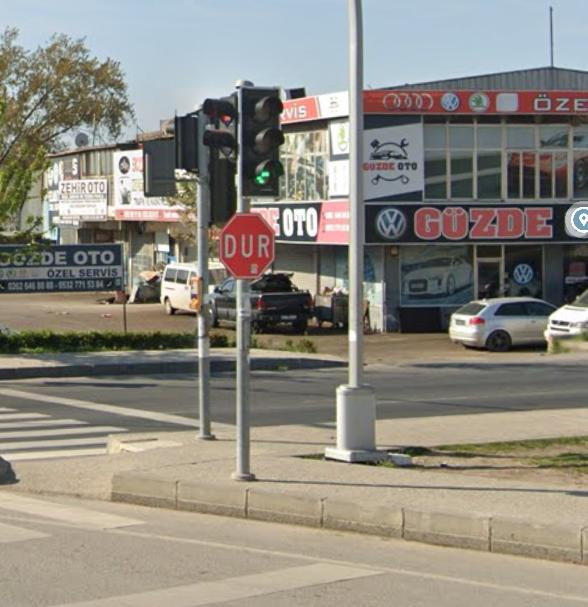greenlight: (240, 86, 283, 189)
stop: (222, 214, 277, 272)
